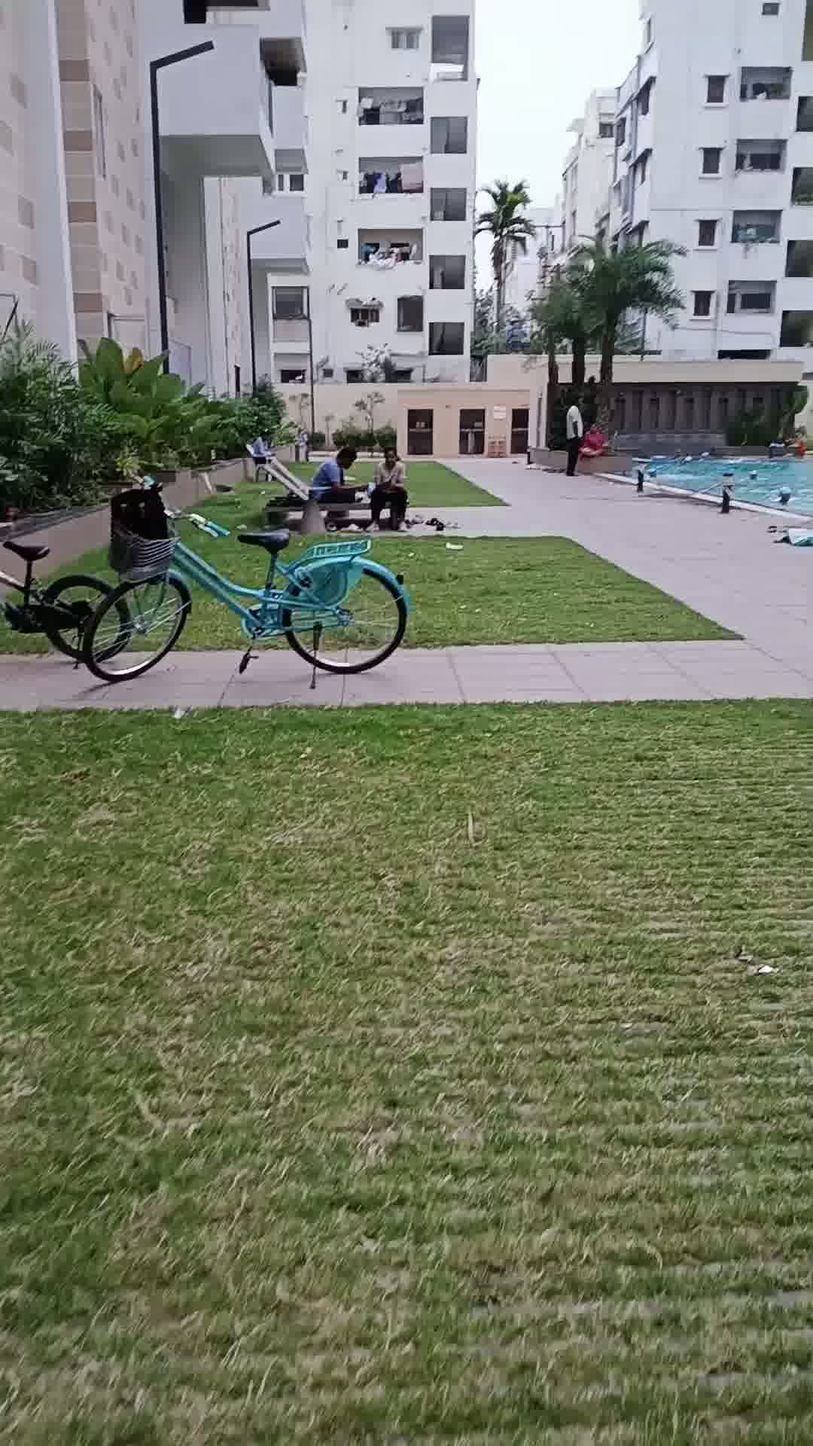bicycle: (80, 453, 421, 695), (0, 498, 131, 706)
person: (306, 430, 367, 518), (372, 435, 413, 540), (553, 386, 595, 482)
tree: (582, 218, 665, 440), (533, 251, 624, 429), (471, 196, 536, 356)
